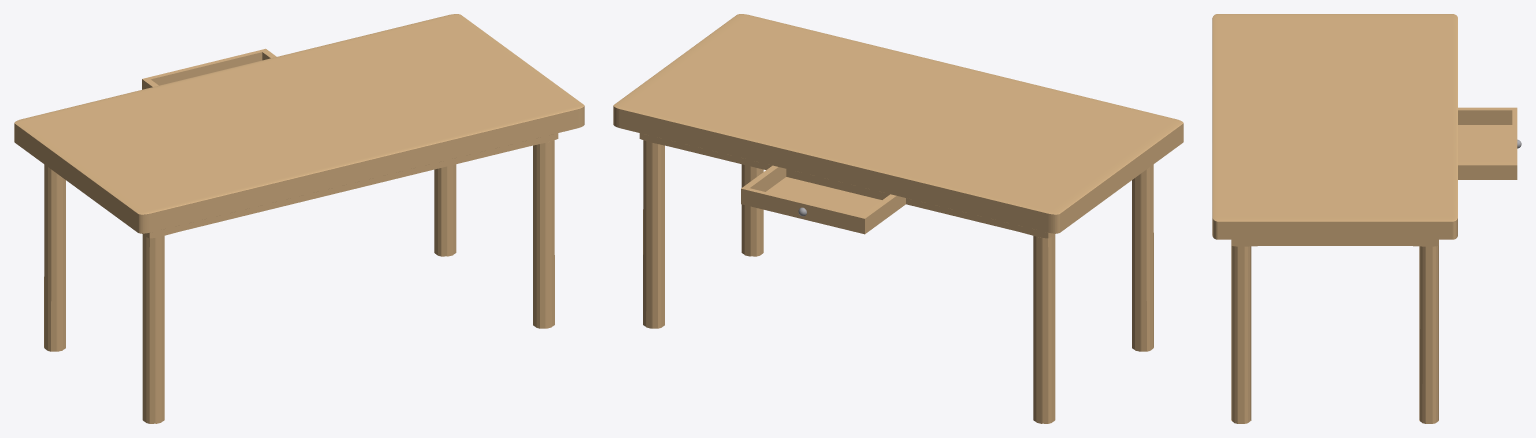
File: table_with_drawer_colored_rounded.fbx
3 renders of one model, left to right at view 1: azimuth 30°, elevation 25°; view 2: azimuth 150°, elevation 25°; view 3: azimuth 270°, elevation 25°, orthographic. The views are drawn at different scales.
Parts seen in each view (by area): view 1: table; view 2: table; view 3: table.
Part boxes in pixels (x1,y1,x2,y2): table: (14,14,584,423); table: (613,14,1183,423); table: (1212,14,1517,423).
Bounding box in the file's own units: 800 × 381 × 503.
